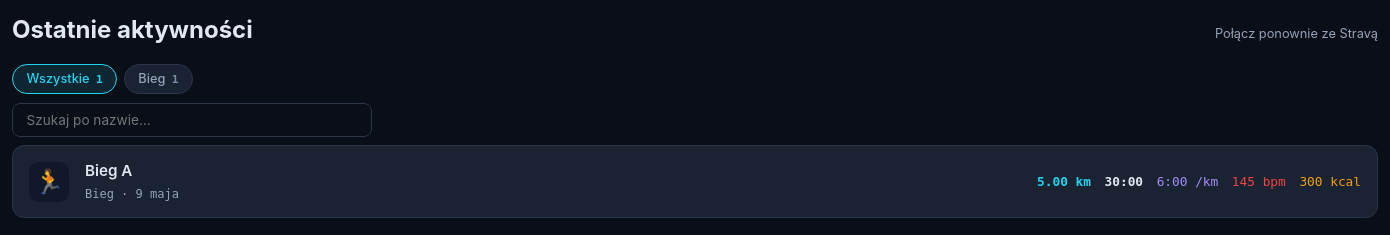
A8 filters › brak wyników → empty state z hintem
Expected: the text "Bieg A" is shown, [85,161,132,180]
Type "xyzzy" into the search field with placeholder "Szukaj po nazwie…" at (192, 120), box [12,103,372,137]
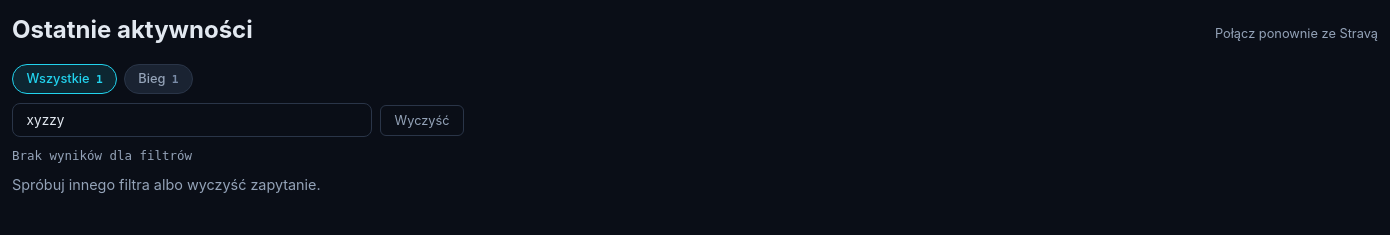
Now the text "Brak wyników dla filtrów" is shown, box [12,147,192,164]
Now the text "Spróbuj innego filtra albo wyczyść zapytanie." is shown, box [12,176,321,193]
